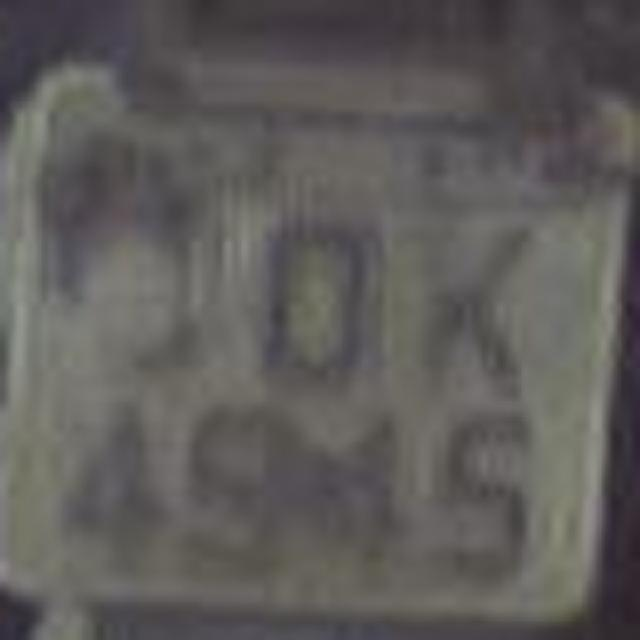4: (51, 372, 184, 588), (304, 384, 431, 584)
5: (424, 392, 556, 576)
9: (176, 384, 304, 571)
J: (100, 180, 228, 400)
